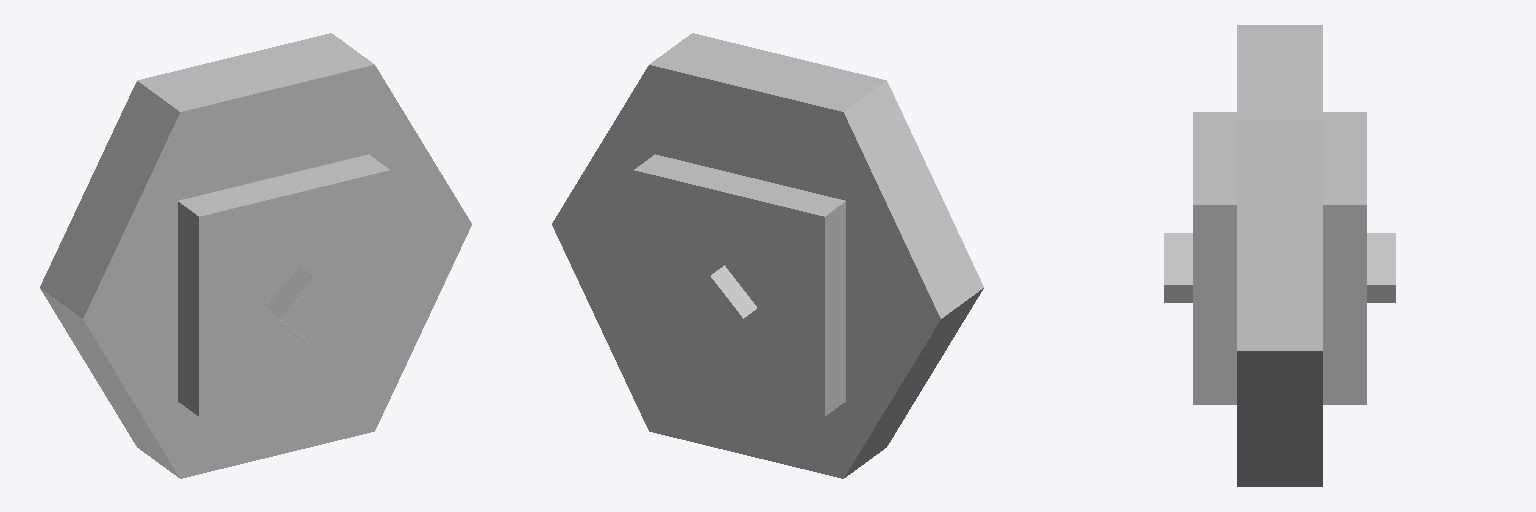
File: large_rivet.obj
The picture shows the model from 3 angles: view 1: azimuth 30°, elevation 25°; view 2: azimuth 150°, elevation 25°; view 3: azimuth 270°, elevation 25°; orthographic projection.
Visible parts, largest first — view 1: cylinder, cube; view 2: cylinder, cube; view 3: cylinder, cube.
Part boxes in pixels (bbox=[...]): cylinder: bbox=[40, 33, 471, 478]; cube: bbox=[178, 154, 390, 416]; cylinder: bbox=[552, 33, 983, 478]; cube: bbox=[633, 154, 845, 416]; cylinder: bbox=[1237, 25, 1322, 486]; cube: bbox=[1164, 112, 1395, 404].
Bounding box in the file's own units: 0.9717 × 0.875 × 0.5.